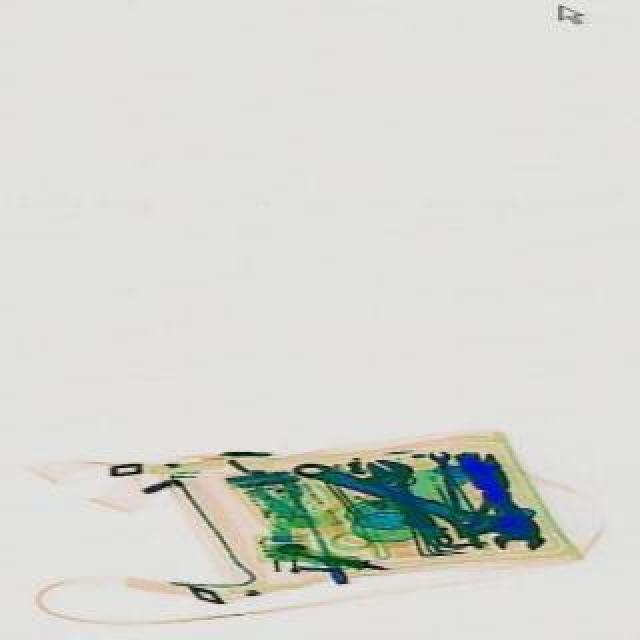scissors: (284, 444, 540, 556), (356, 444, 458, 556), (468, 454, 538, 554), (424, 446, 464, 508)
